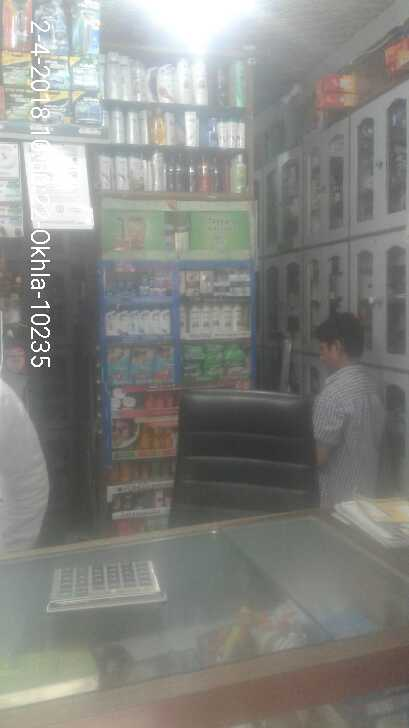vicks: (108, 270, 166, 297)
